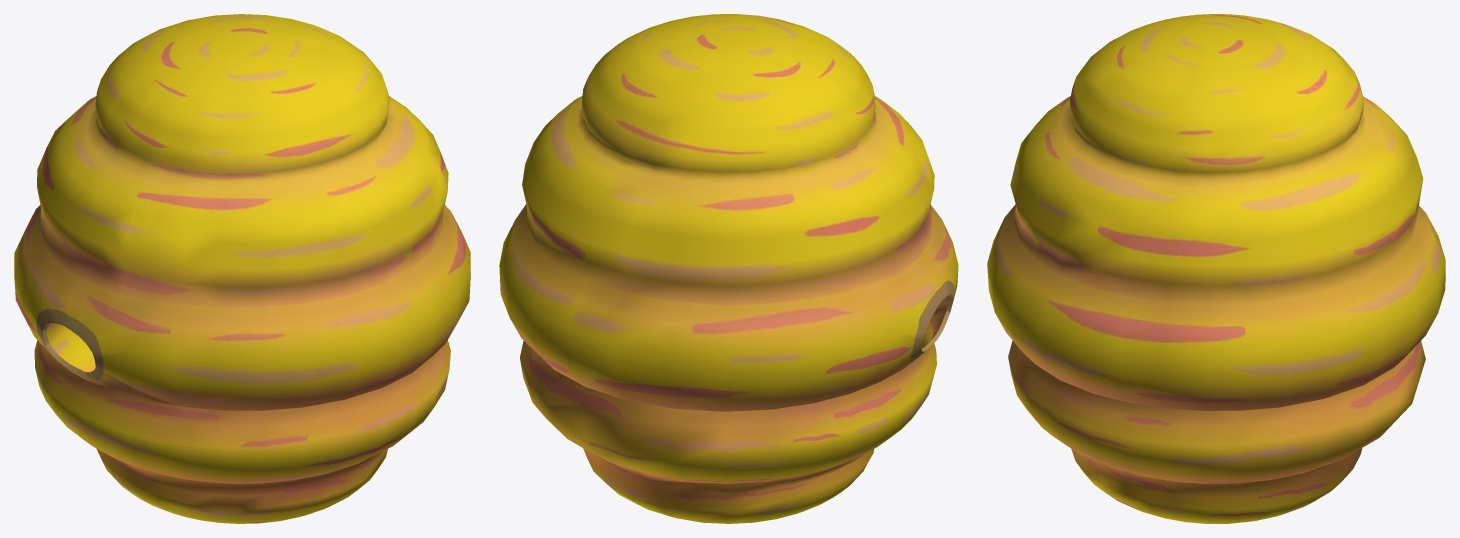
File: ruche.glb
3 renders of one model, left to right at view 1: azimuth 30°, elevation 25°; view 2: azimuth 150°, elevation 25°; view 3: azimuth 270°, elevation 25°, orthographic.
Visible parts, largest first — view 1: polySurface1; view 2: polySurface1; view 3: polySurface1.
Boxes of the visible parts, x1,y1,x2,y2 form: polySurface1: (14,14,470,523); polySurface1: (499,14,958,523); polySurface1: (987,14,1445,523).
Size of the model in its own units: 10.38 by 11.49 by 10.39.
Materials: 1 (1 with a texture image).
